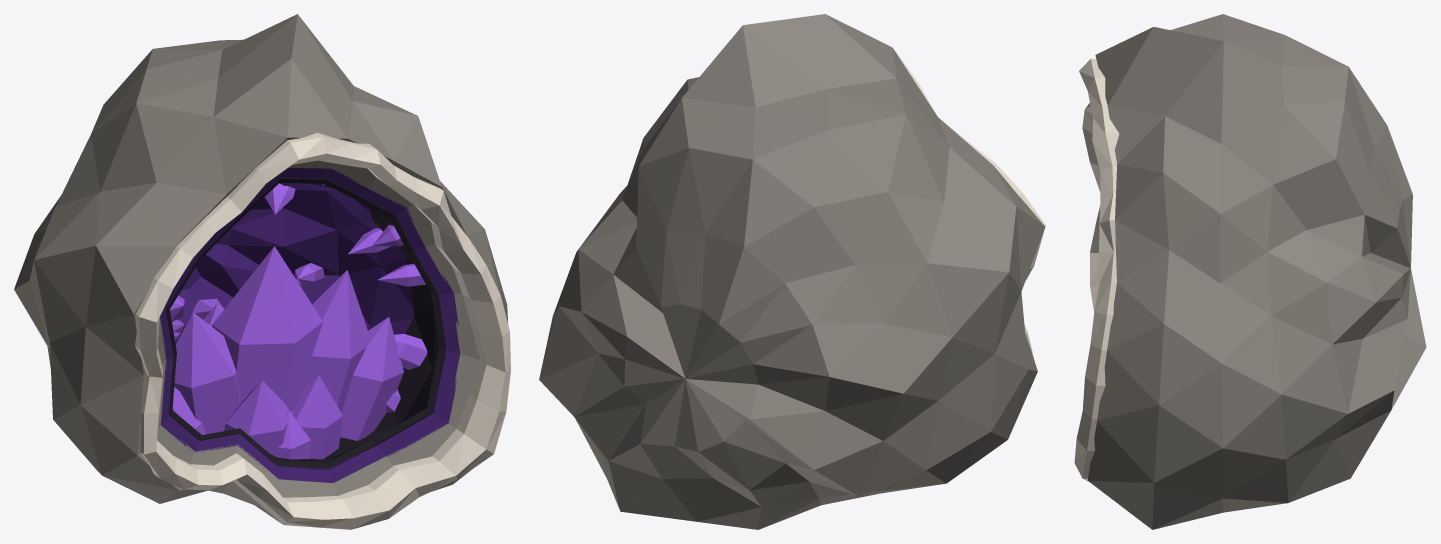
The model's file is Lodge_DisplayGeode_Violet.fbx.
3 views of the same model, side by side, from view 1: azimuth 30°, elevation 25°; view 2: azimuth 150°, elevation 25°; view 3: azimuth 270°, elevation 25° (orthographic). The views are drawn at different scales.
Parts seen in each view (by area): view 1: Shell, Rim, Lining, Crystal1, Crystal2, Shade, Crystal3, Druse; view 2: Shell, Rim; view 3: Shell, Rim.
Boxes of the visible parts, <box> form: Shell: <box>14,14,508,529</box>; Rim: <box>135,132,510,528</box>; Lining: <box>160,168,460,483</box>; Crystal1: <box>172,246,342,459</box>; Crystal2: <box>174,312,403,459</box>; Shade: <box>166,178,445,469</box>; Crystal3: <box>203,270,369,455</box>; Druse: <box>170,183,427,412</box>; Shell: <box>539,14,1045,529</box>; Rim: <box>894,49,1045,360</box>; Shell: <box>1087,14,1426,529</box>; Rim: <box>1074,58,1119,481</box>.
Size of the model in its own units: 3.23 by 3.29 by 2.41.
